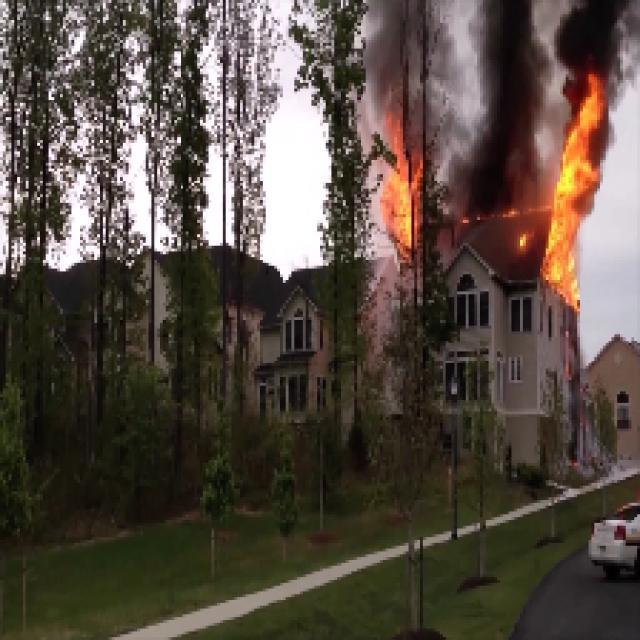Fire: (556, 97, 595, 307)
Smoke: (464, 4, 536, 201), (568, 1, 612, 77)
